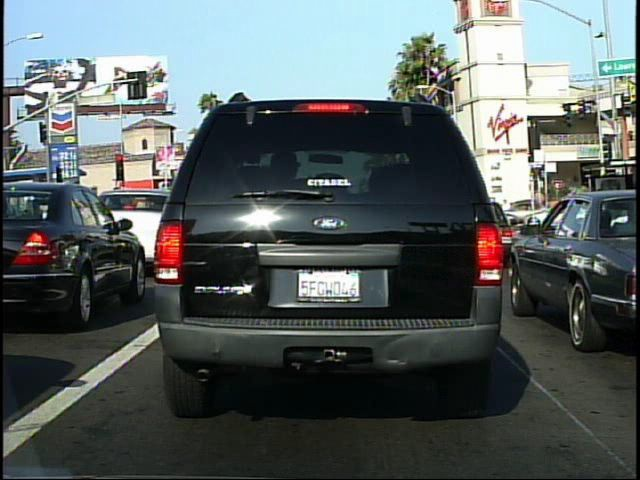person: (590, 183, 612, 245), (500, 196, 514, 225)
